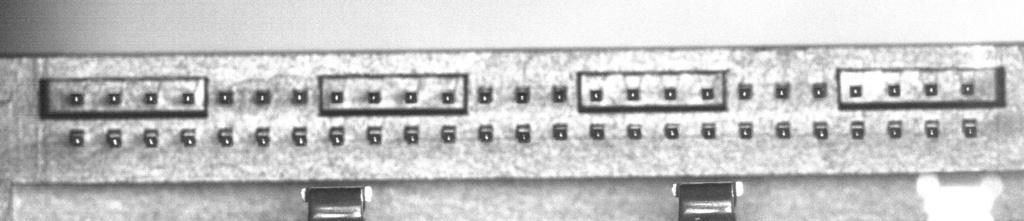pin_ok: (513, 85, 531, 106), (961, 117, 979, 137), (478, 123, 495, 144), (515, 123, 532, 144), (180, 128, 197, 148), (552, 84, 570, 102), (811, 80, 829, 98), (367, 125, 384, 144), (106, 128, 122, 148), (255, 127, 271, 147), (142, 129, 159, 147), (477, 85, 494, 103), (552, 122, 569, 140), (329, 126, 345, 145), (292, 126, 307, 146), (774, 82, 791, 99), (699, 82, 716, 99), (441, 124, 457, 142), (218, 129, 234, 146), (923, 78, 939, 95), (292, 88, 308, 104), (738, 82, 754, 98), (627, 123, 643, 139), (701, 123, 717, 139), (813, 124, 829, 140), (69, 129, 84, 146), (405, 127, 420, 144), (851, 121, 865, 139), (589, 87, 604, 103), (218, 89, 234, 104), (590, 123, 605, 139), (887, 123, 902, 139), (664, 123, 679, 139), (739, 123, 753, 139), (69, 92, 84, 106), (255, 90, 270, 104), (887, 82, 902, 96), (663, 86, 678, 100), (925, 124, 940, 138), (330, 90, 344, 104), (367, 89, 381, 103), (776, 124, 790, 138), (627, 86, 641, 100), (181, 91, 195, 104), (404, 90, 417, 103), (441, 90, 454, 103), (145, 92, 158, 104), (963, 81, 975, 94), (850, 85, 862, 97), (108, 92, 120, 104)
